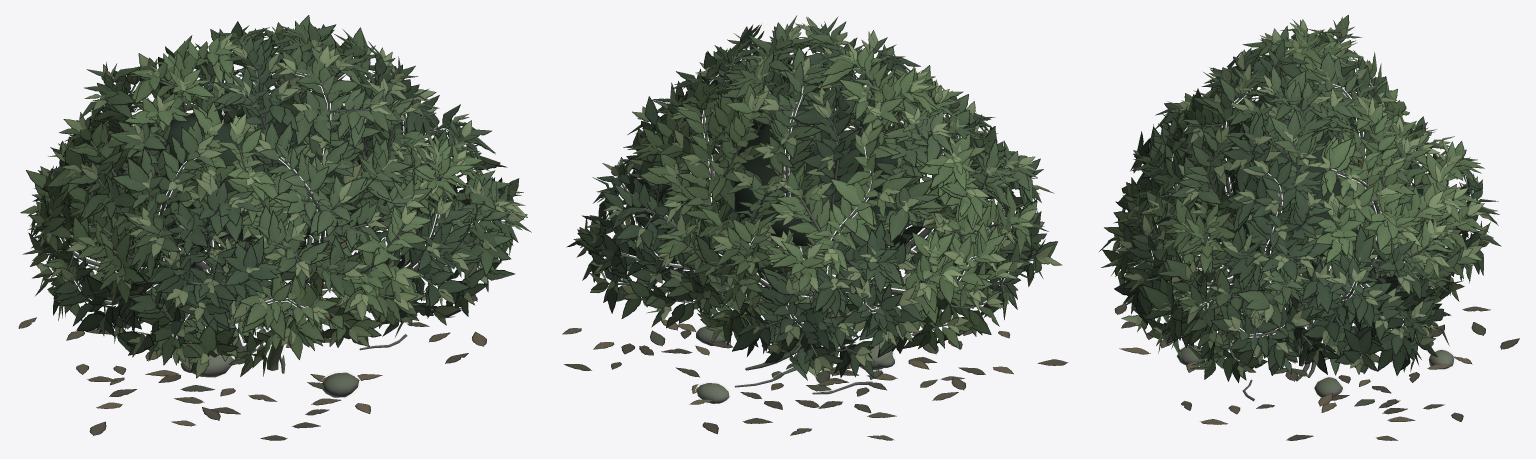
Rendered from arbusto.glb.
The picture shows the model from 3 angles, left to right: view 1: azimuth 30°, elevation 25°; view 2: azimuth 150°, elevation 25°; view 3: azimuth 270°, elevation 25°; orthographic projection. The views are drawn at different scales.
Parts seen in each view (by area): view 1: Hojas_LOD0, Ramas_LOD0, Masa_LOD0, Tinta_LOD0, Suelo_LOD0; view 2: Hojas_LOD0, Ramas_LOD0, Masa_LOD0, Tinta_LOD0, Suelo_LOD0; view 3: Hojas_LOD0, Ramas_LOD0, Tinta_LOD0, Suelo_LOD0, Masa_LOD0.
Boxes of the visible parts, bbox=[...] form: Hojas_LOD0: bbox=[18, 15, 531, 440]; Ramas_LOD0: bbox=[48, 43, 505, 373]; Masa_LOD0: bbox=[160, 101, 401, 242]; Tinta_LOD0: bbox=[59, 51, 499, 399]; Suelo_LOD0: bbox=[180, 306, 358, 397]; Hojas_LOD0: bbox=[562, 15, 1068, 440]; Ramas_LOD0: bbox=[597, 47, 1033, 394]; Masa_LOD0: bbox=[732, 100, 903, 245]; Tinta_LOD0: bbox=[602, 52, 1009, 405]; Suelo_LOD0: bbox=[696, 326, 894, 403]; Hojas_LOD0: bbox=[1099, 15, 1519, 440]; Ramas_LOD0: bbox=[1127, 38, 1472, 401]; Tinta_LOD0: bbox=[1151, 82, 1473, 403]; Suelo_LOD0: bbox=[1177, 345, 1453, 397]; Masa_LOD0: bbox=[1231, 102, 1357, 283].
Size of what is drawn, in the model's own units: 1.76 by 1.28 by 1.59.
Materials: 5 (1 with a texture image).
